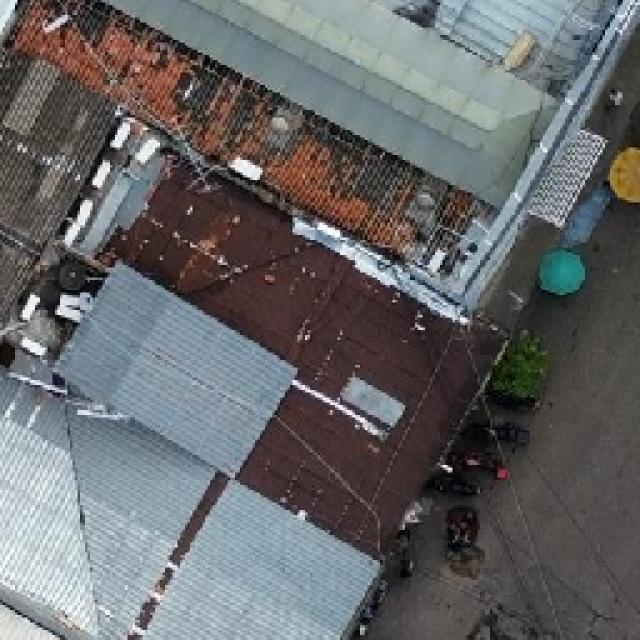vendedor_ambulante: (533, 246, 591, 297), (607, 145, 640, 205)
